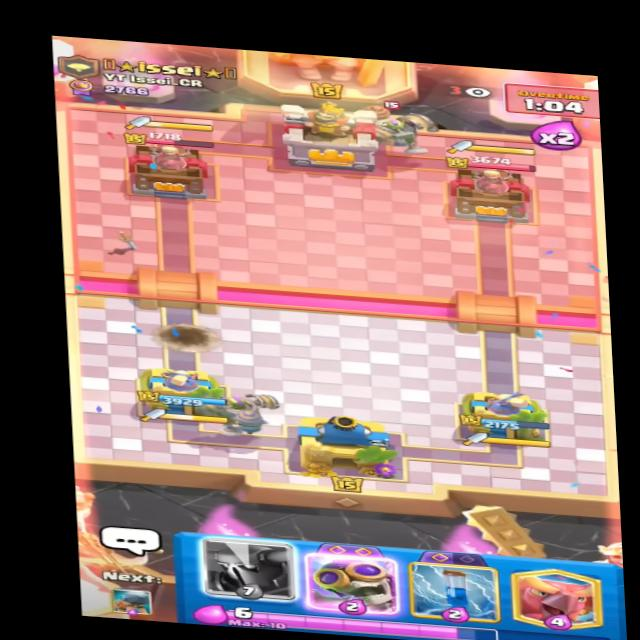goblin-machine: (344, 98, 449, 156)
